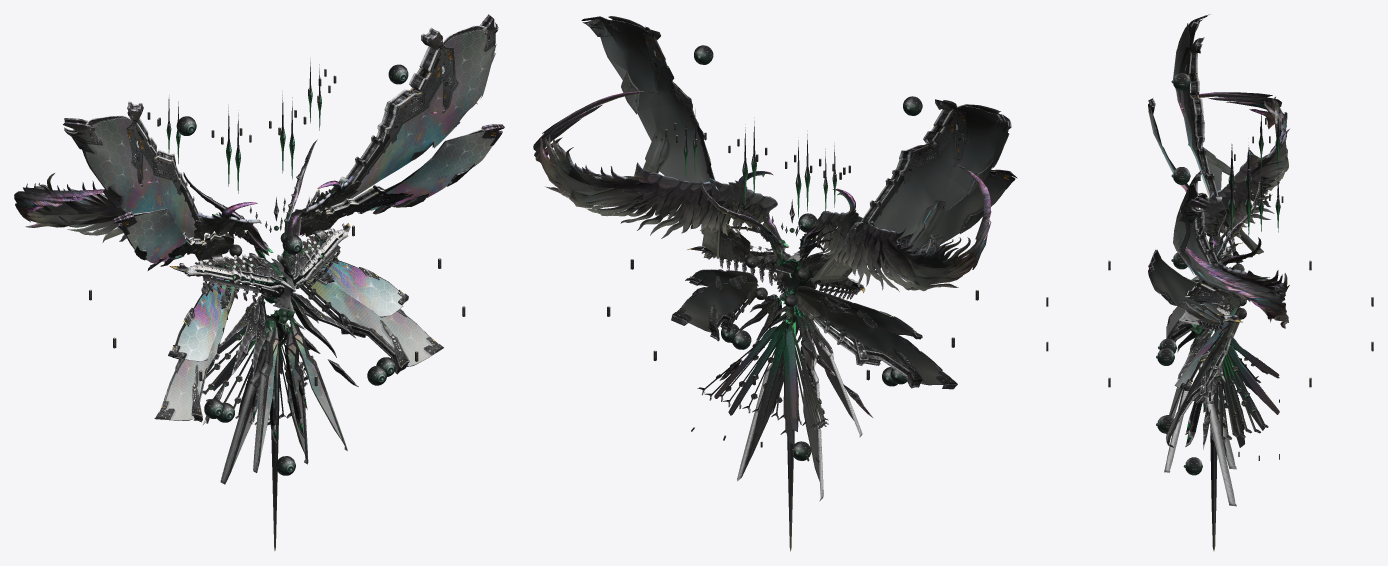
Rendered from eba005_anmi.glb.
3 renders of one model, left to right at view 1: azimuth 30°, elevation 25°; view 2: azimuth 150°, elevation 25°; view 3: azimuth 270°, elevation 25°, orthographic. The views are drawn at different scales.
Parts seen in each view (by area): view 1: eba005_anmi; view 2: eba005_anmi; view 3: eba005_anmi.
Boxes of the visible parts, left/top/right/bottom form: eba005_anmi: left=14, top=14, right=504, bottom=550; eba005_anmi: left=533, top=16, right=1017, bottom=551; eba005_anmi: left=1046, top=14, right=1373, bottom=550.
Bounding box in the file's own units: 48.64 × 51.06 × 33.88.
13 materials, 13 textured.
